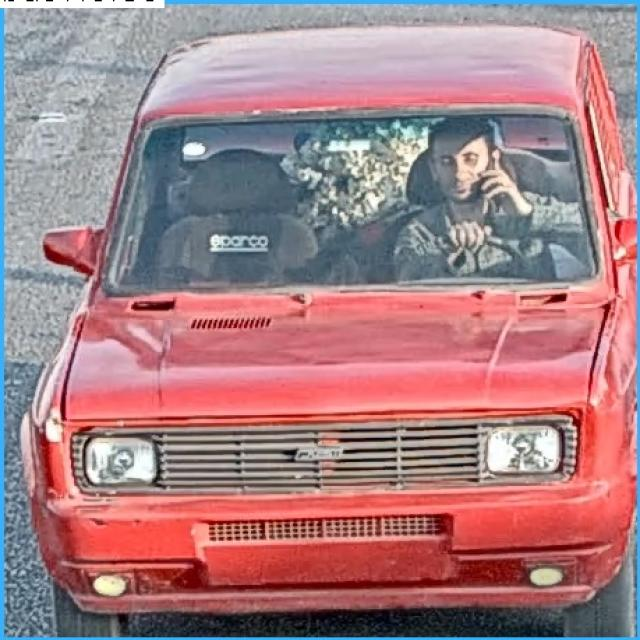windshield: (110, 114, 600, 285)
